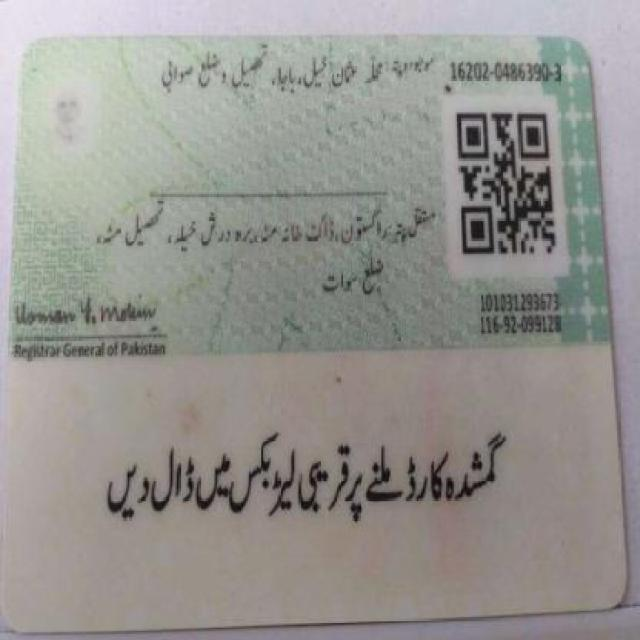Back: (3, 29, 634, 636)
